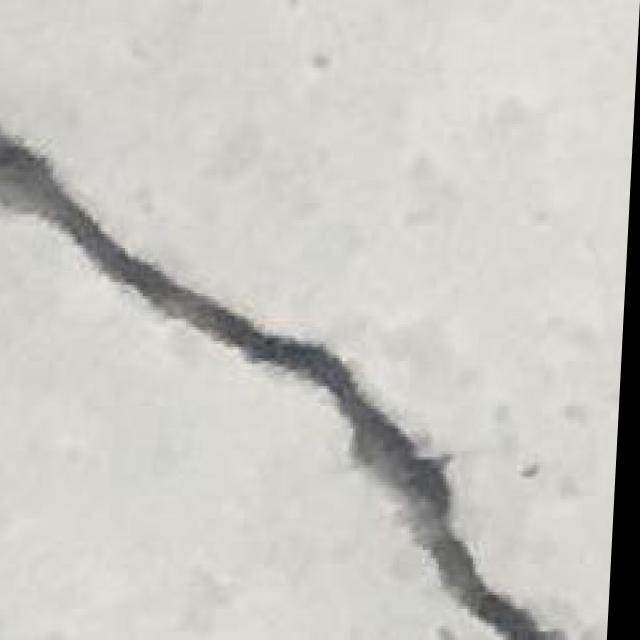Crack: (0, 127, 573, 640)
